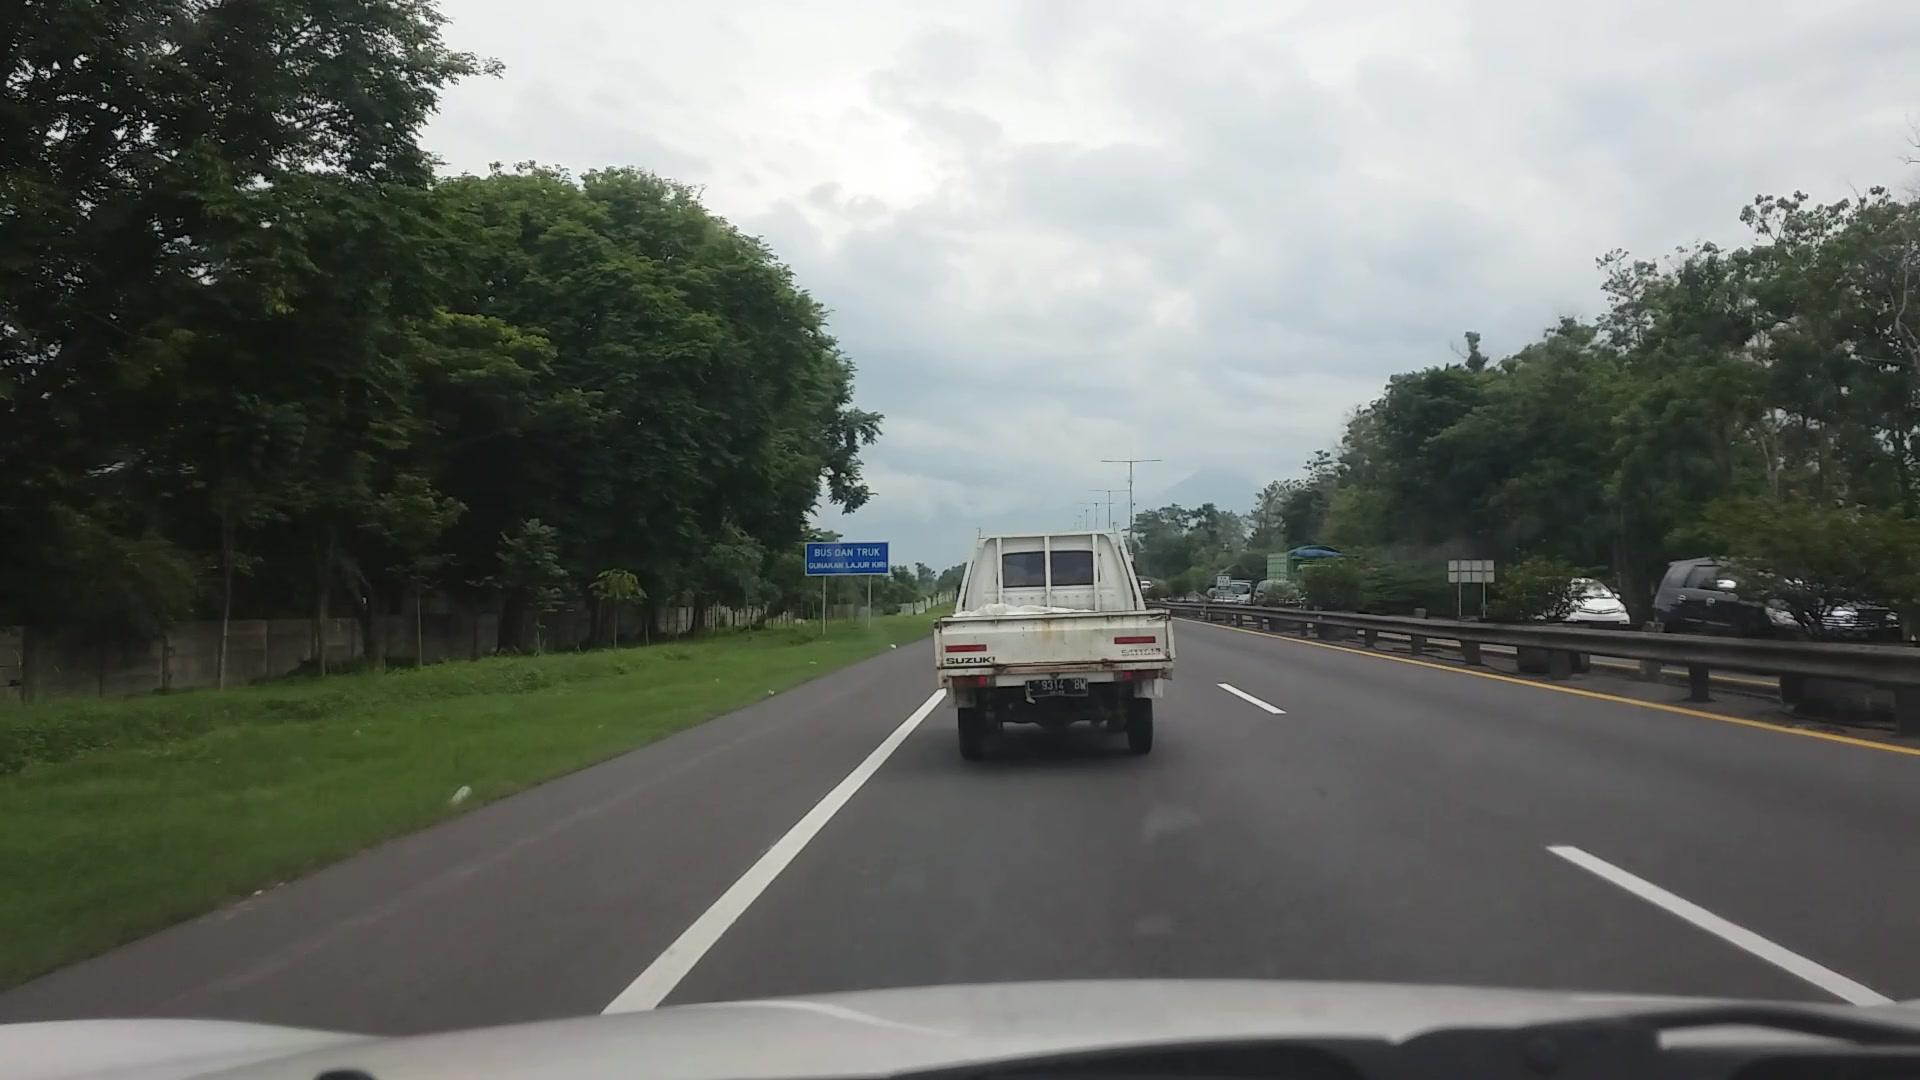plate_positive: (1025, 678, 1087, 698)
